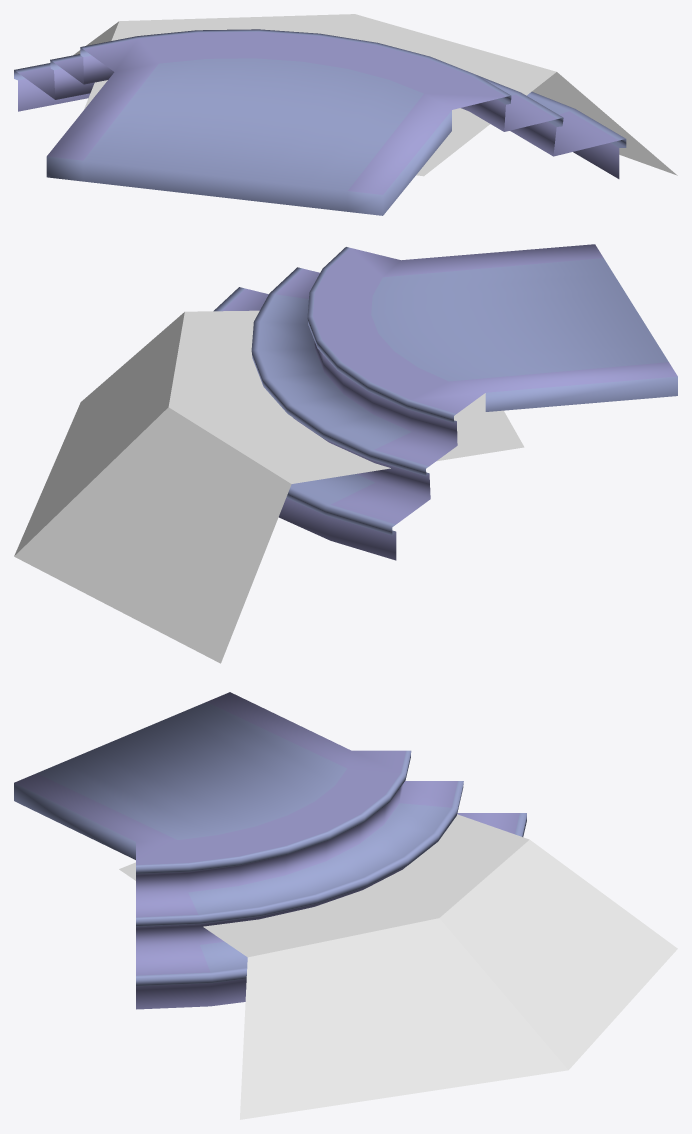
The model's file is SmallstepsRound.fbx.
3 views of the same model, one above another, from view 1: azimuth 30°, elevation 25°; view 2: azimuth 150°, elevation 25°; view 3: azimuth 270°, elevation 25° (orthographic). The views are drawn at different scales.
Parts seen in each view (by area): view 1: Stairs_Round, StairsHalfRoundColMesh; view 2: Stairs_Round, StairsHalfRoundColMesh; view 3: StairsHalfRoundColMesh, Stairs_Round.
Part boxes in pixels (x1,y1,x2,y2): Stairs_Round: [14, 29, 626, 215]; StairsHalfRoundColMesh: [73, 14, 677, 176]; Stairs_Round: [213, 244, 677, 560]; StairsHalfRoundColMesh: [14, 310, 524, 663]; StairsHalfRoundColMesh: [119, 814, 677, 1119]; Stairs_Round: [14, 692, 526, 1009].
Size of the model in its own units: 470 by 126 by 486.
